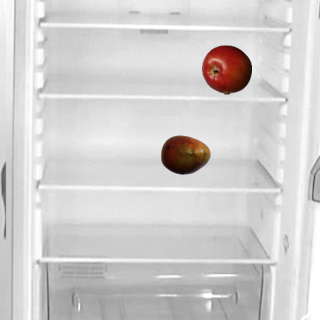Apple Braeburn: (201, 44, 251, 94)
Mango Red: (160, 129, 210, 179)
